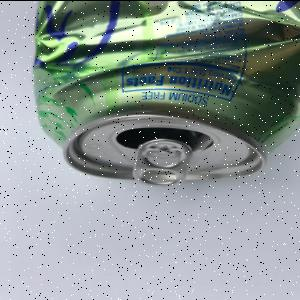Can: (32, 2, 300, 189)
